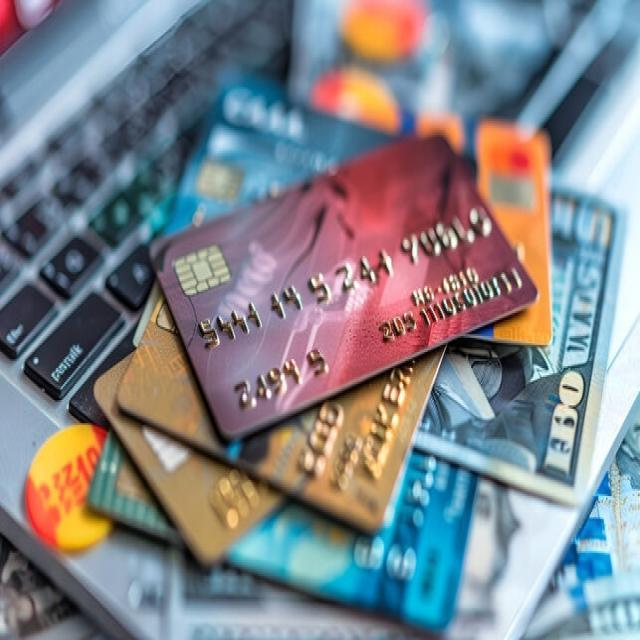payment_card: (148, 130, 539, 443)
